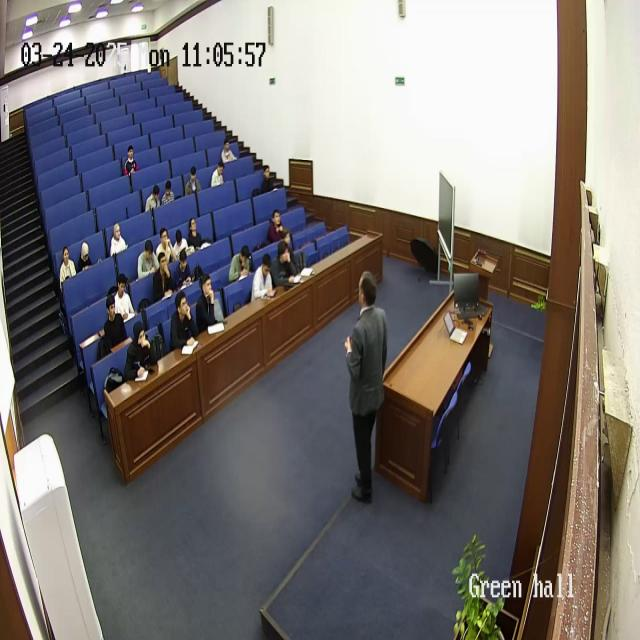person: (343, 273, 389, 503), (123, 324, 157, 382), (102, 294, 130, 356), (170, 293, 198, 351), (195, 274, 220, 335), (272, 239, 299, 287), (251, 252, 275, 302), (152, 250, 174, 303), (114, 273, 136, 321), (136, 239, 160, 281), (228, 244, 252, 284), (172, 246, 194, 289), (267, 208, 289, 250), (58, 245, 77, 289), (154, 228, 174, 266), (110, 221, 128, 258), (184, 218, 203, 253), (76, 239, 94, 273), (183, 166, 201, 197), (259, 163, 277, 194), (144, 182, 162, 212), (123, 144, 139, 176), (221, 136, 237, 164), (160, 180, 176, 207), (210, 158, 224, 188)
